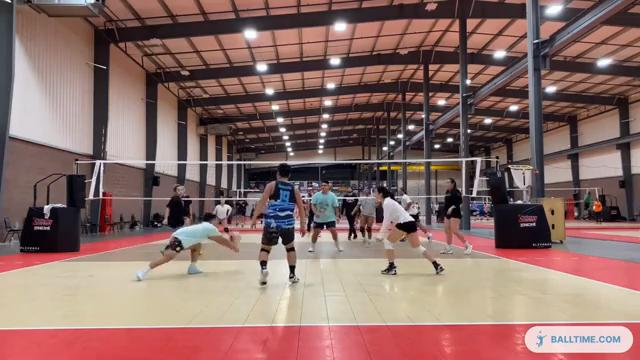difesa: (130, 210, 242, 283)
